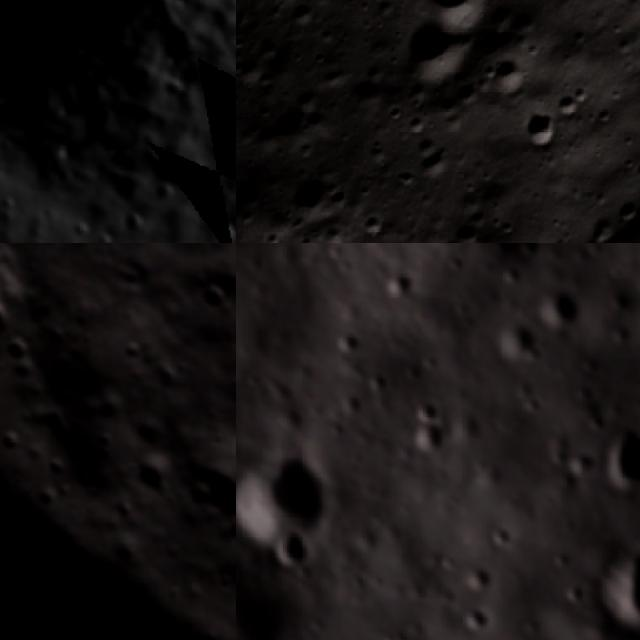crater: (0, 0, 232, 154), (384, 0, 488, 104), (236, 450, 332, 544), (169, 438, 236, 541), (277, 159, 355, 237), (409, 0, 512, 47), (474, 43, 540, 111), (589, 544, 640, 632), (510, 99, 571, 161), (127, 443, 185, 501), (596, 426, 640, 500), (30, 395, 85, 453), (24, 468, 79, 522), (542, 78, 596, 132), (532, 285, 582, 336), (442, 243, 551, 265), (490, 317, 540, 363), (401, 418, 452, 462), (434, 207, 493, 243), (130, 410, 176, 456), (268, 522, 317, 565), (182, 471, 224, 514), (114, 326, 157, 368), (196, 275, 236, 318), (406, 393, 453, 428), (378, 265, 418, 305), (458, 599, 495, 640), (0, 417, 36, 459), (457, 556, 494, 596), (564, 444, 601, 482), (186, 264, 222, 300), (482, 515, 517, 552), (108, 492, 143, 528), (332, 324, 367, 358), (85, 243, 160, 258), (48, 451, 78, 482), (558, 575, 584, 606), (610, 286, 636, 317), (206, 217, 236, 243), (221, 507, 236, 551), (549, 545, 570, 570), (229, 593, 236, 625)
